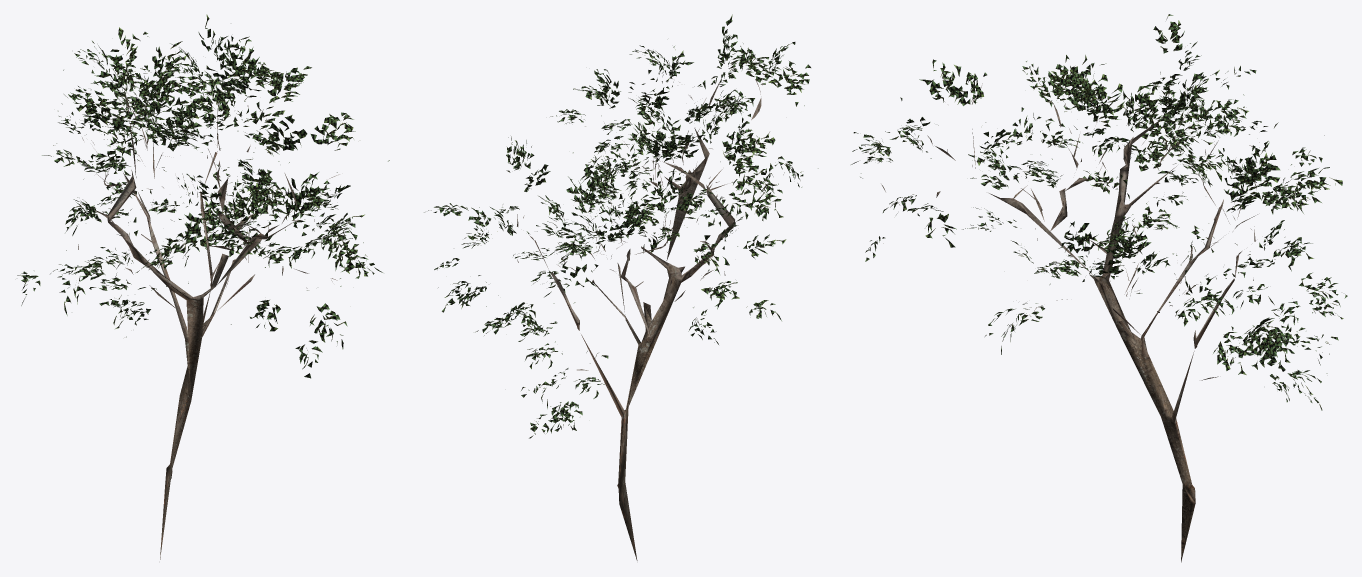
The model's file is tree.glb.
3 views of the same model, side by side, from view 1: azimuth 30°, elevation 25°; view 2: azimuth 150°, elevation 25°; view 3: azimuth 270°, elevation 25° (orthographic). The views are drawn at different scales.
Visible parts, largest first — view 1: tree_small_02_LOD0; view 2: tree_small_02_LOD0; view 3: tree_small_02_LOD0.
Part boxes in pixels (<box>): tree_small_02_LOD0: <box>17,14,389,559</box>; tree_small_02_LOD0: <box>424,14,818,560</box>; tree_small_02_LOD0: <box>851,14,1347,562</box>.
Bounding box in the file's own units: 2.87 × 4.54 × 4.01.
3 materials, 3 textured.
